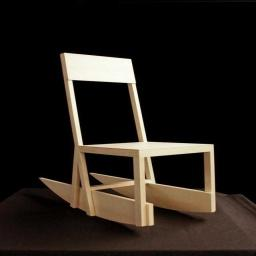Chair: (40, 53, 216, 228)
